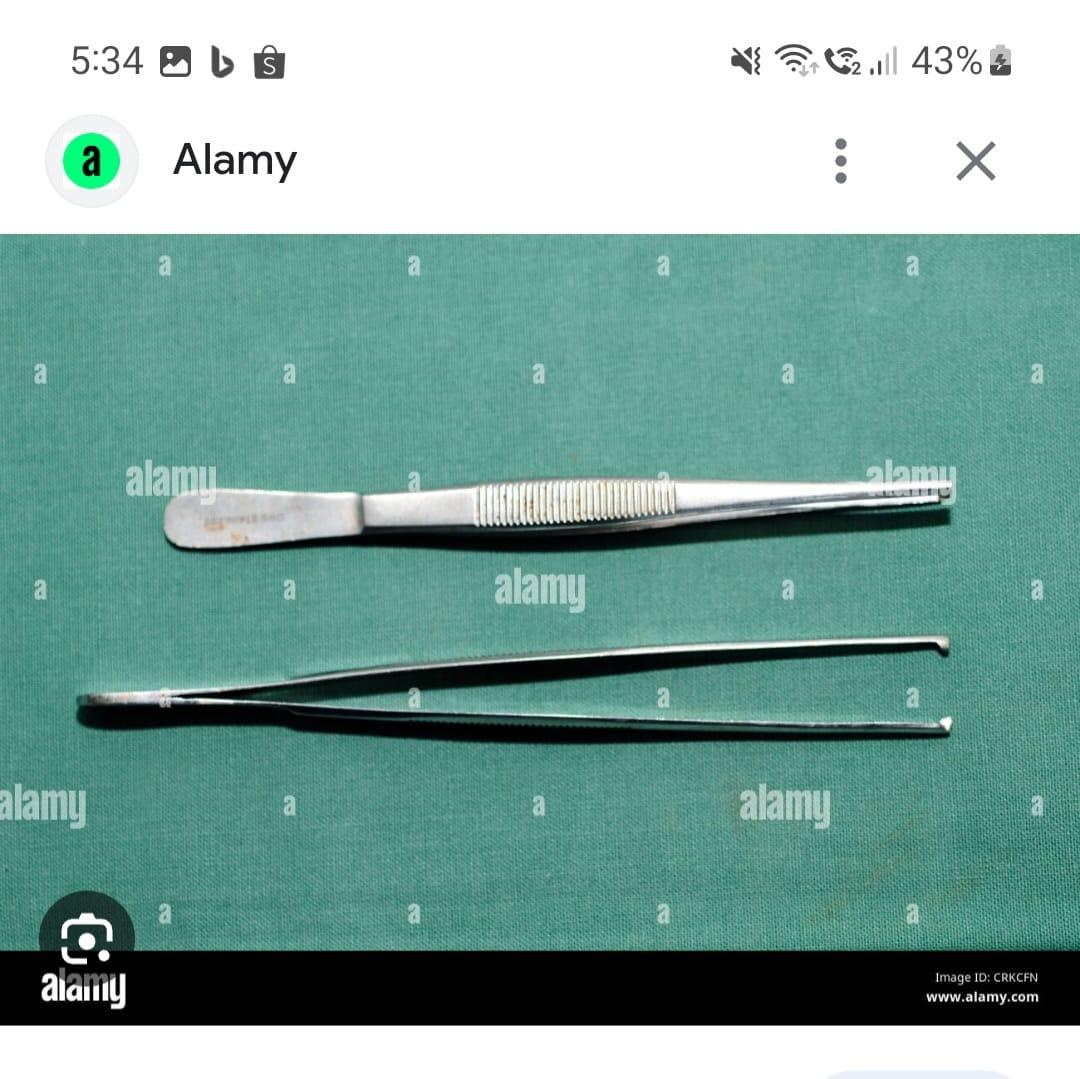Disscting Forceps: (45, 622, 973, 778), (133, 410, 968, 573)
